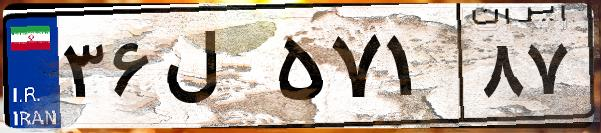1: (385, 28, 445, 110)
3: (57, 26, 110, 100)
5: (270, 28, 330, 110)
6: (110, 28, 158, 98)
7: (330, 28, 385, 110), (525, 38, 570, 115)
8: (475, 38, 525, 113)
ل: (158, 20, 270, 120)
